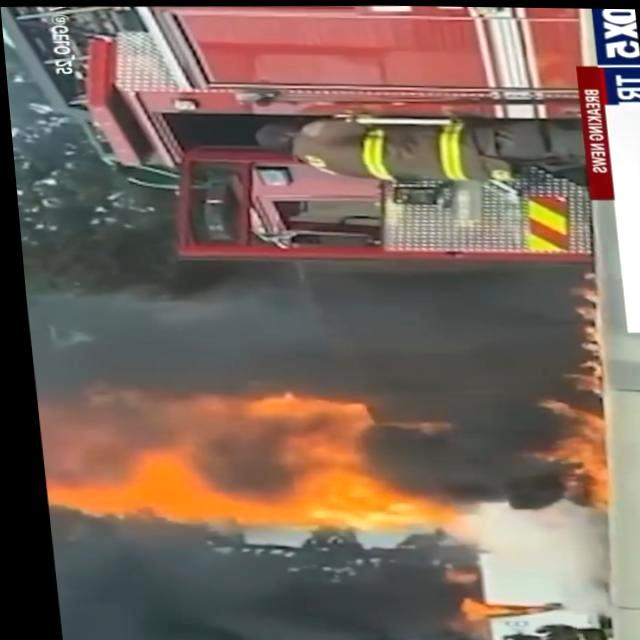fire: (28, 383, 618, 551)
